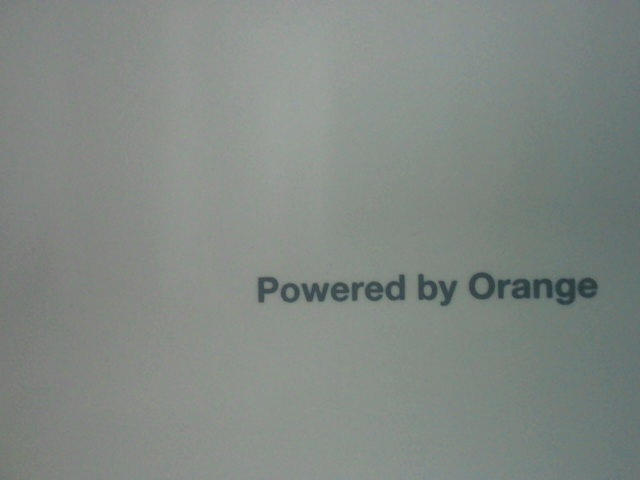AS_PowerByOrange: (256, 262, 612, 313)
